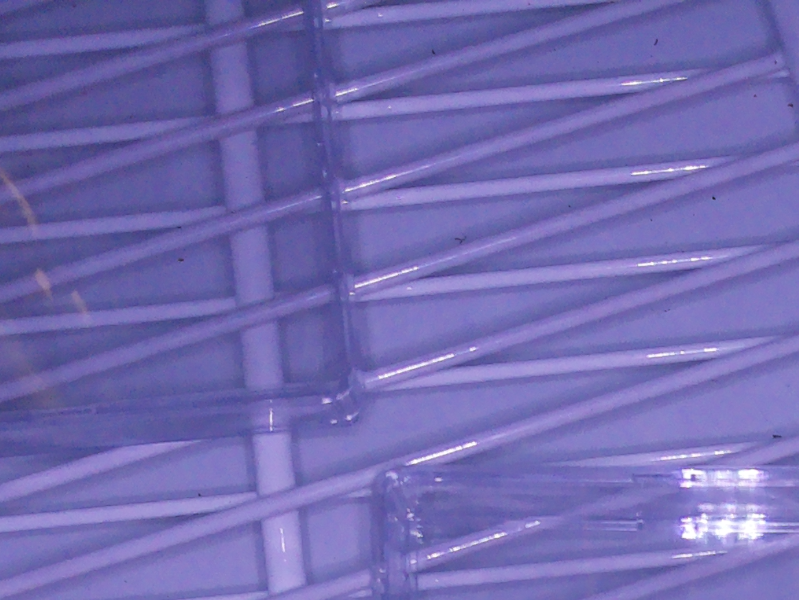plate: (1, 1, 368, 462), (368, 465, 799, 600)
